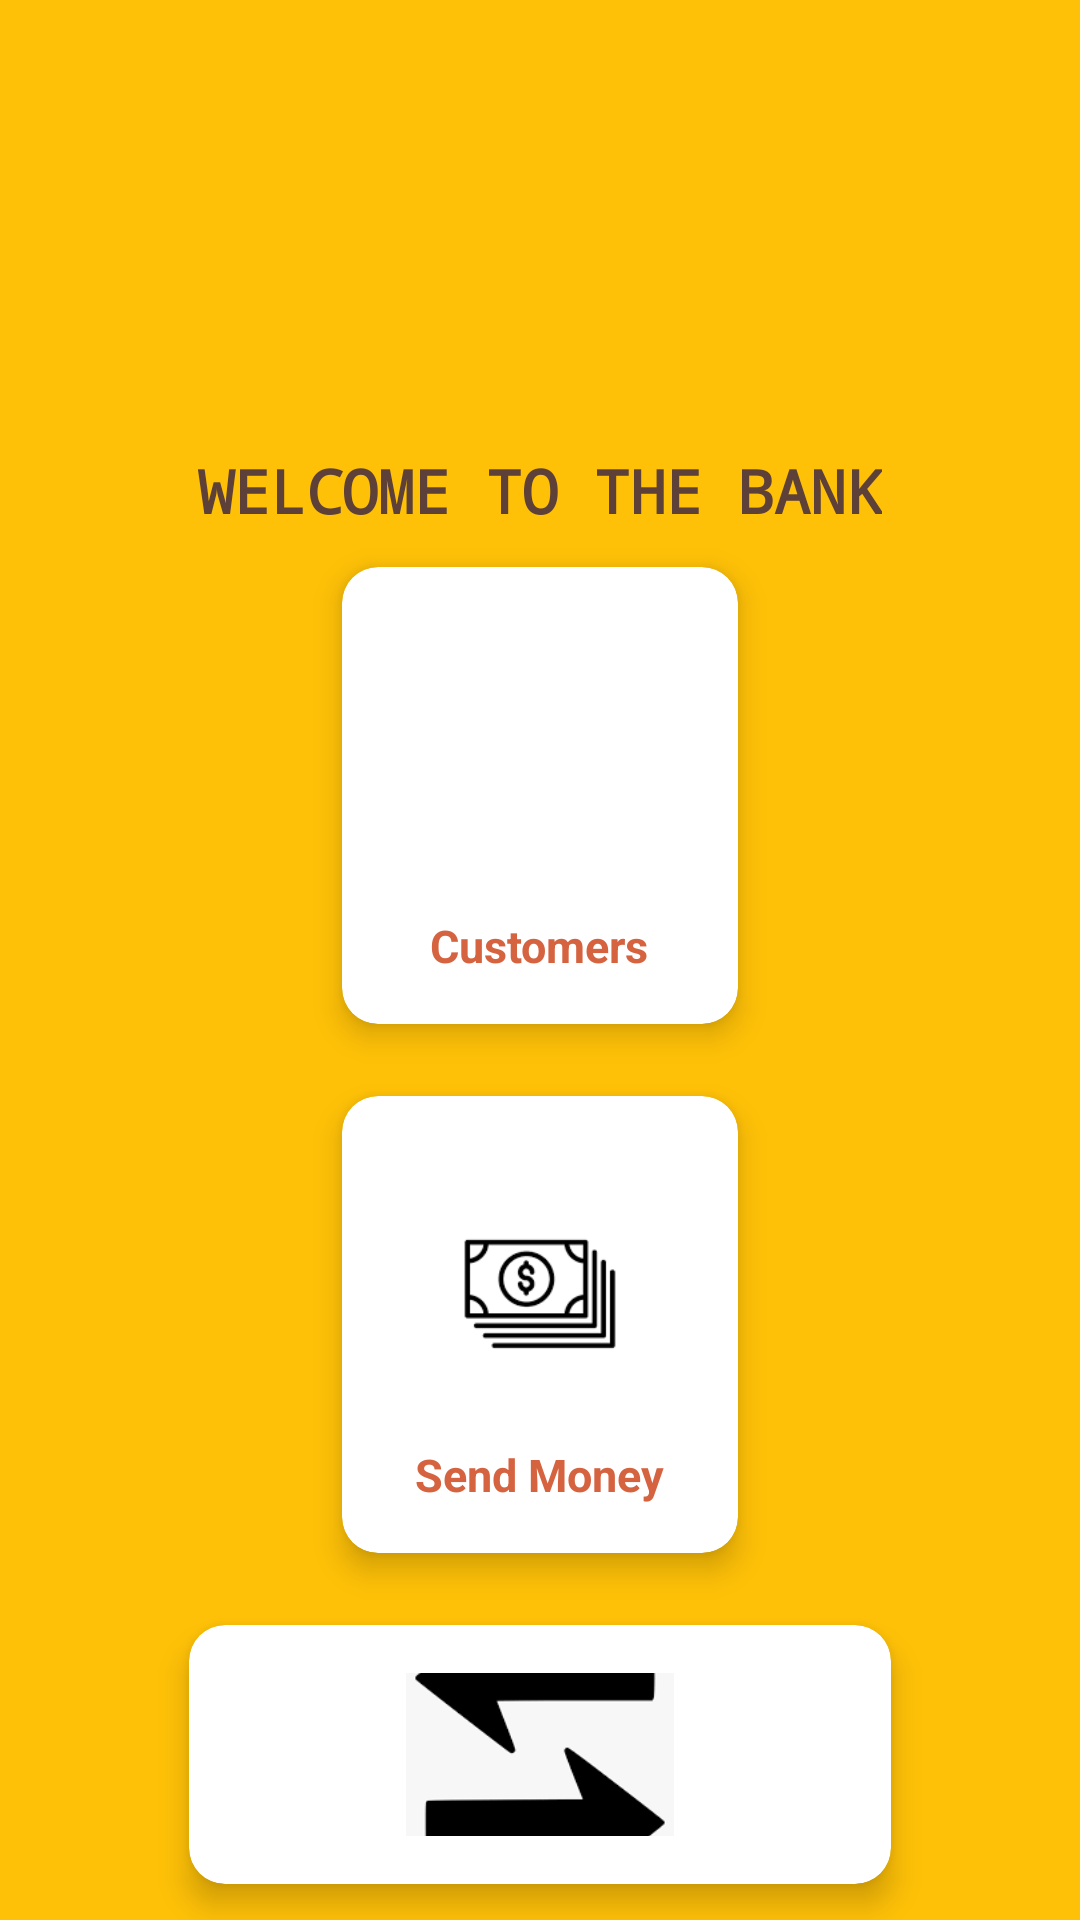

Icon bounding boxes for this 1080px x 1920px phone screenshot, format [left=x1, top=y1, right=x2, bottom=y2]:
pay: [left=464, top=1239, right=616, bottom=1349]
